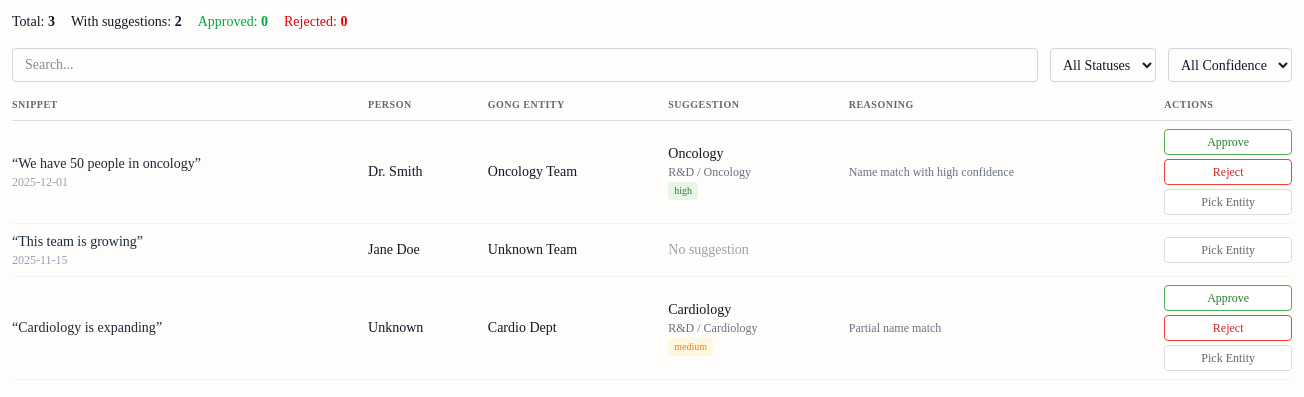
it: MatchReviewTable › shows empty state when no items match filters
The image size is (1304, 397).
Type "zzzzz" into the field with placeholder "Search..." at (525, 65), box [12,48,1038,82]
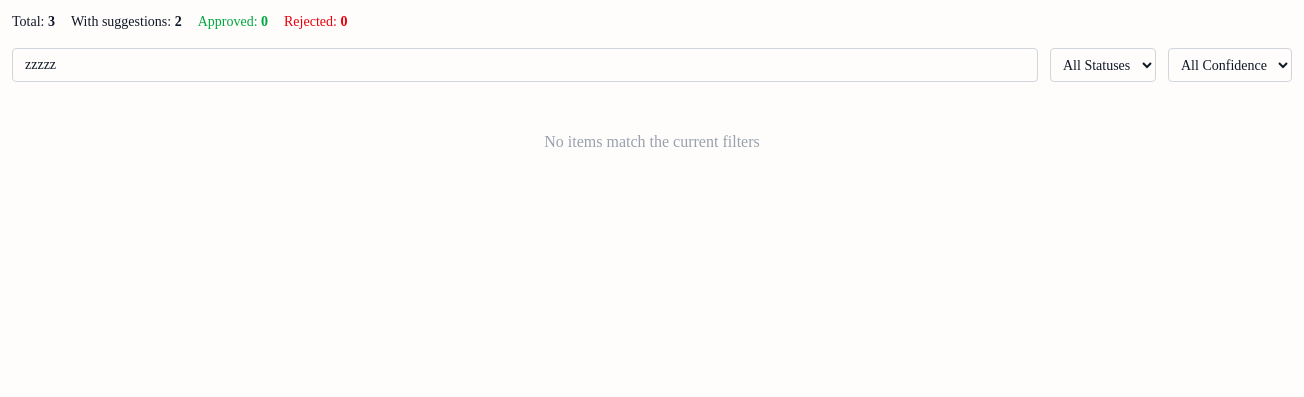
Result: the text "No items match the current filters" is shown at [544,133,760,150]
